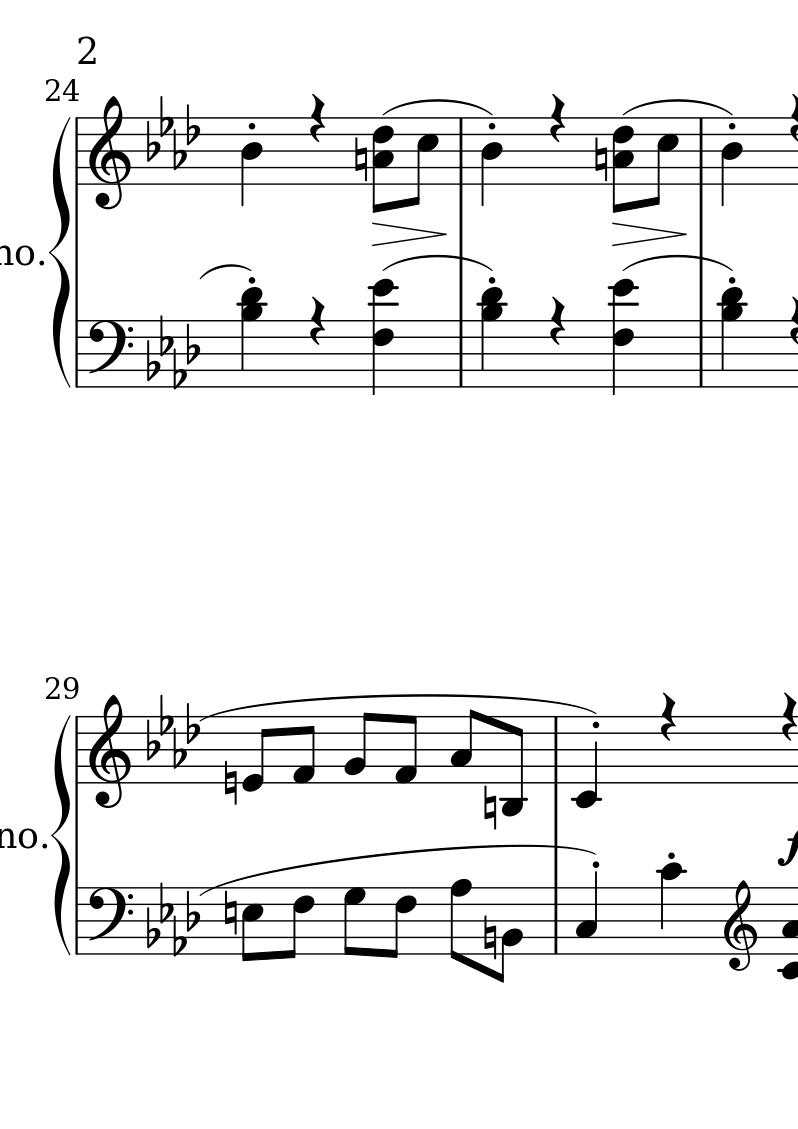2: (76, 35, 97, 65), (43, 77, 61, 104), (44, 675, 61, 701)
4: (61, 77, 79, 104)
4_-2: (571, 715, 599, 809)
4_10: (658, 861, 685, 957)
4_3: (574, 872, 599, 955)
4_4: (719, 116, 745, 209), (239, 118, 264, 208), (479, 118, 504, 208)
4_6_10: (606, 279, 639, 397)
4_6_12: (367, 278, 399, 396)
4_9_11: (716, 286, 748, 390), (476, 286, 508, 390), (237, 287, 267, 389)
8_-3: (501, 715, 527, 817)
8_0: (241, 715, 272, 793)
8_1: (290, 715, 317, 786), (392, 713, 418, 786)
8_2: (497, 886, 524, 985), (342, 711, 374, 784)
8_3: (448, 708, 479, 785)
8_3_6: (371, 117, 396, 215), (612, 115, 634, 214)
8_5: (407, 116, 439, 208), (647, 116, 679, 208), (239, 886, 264, 964)
8_6: (282, 886, 315, 960), (386, 886, 417, 960)
8_7: (342, 885, 366, 957)
8_8: (447, 877, 472, 966)
9: (61, 674, 79, 700)
A_F: (144, 880, 201, 959), (145, 316, 200, 392), (144, 96, 198, 173), (146, 695, 198, 769)
Brace: (49, 710, 74, 951), (51, 112, 72, 389)
Diminuendo_hairpin: (612, 221, 685, 245), (372, 221, 444, 245)
Fclef: (85, 318, 133, 390), (85, 885, 133, 955)
Gclef: (87, 93, 131, 211), (87, 693, 131, 810), (722, 878, 759, 972)
Natural: (592, 136, 610, 185), (352, 136, 369, 185), (221, 889, 238, 937), (481, 784, 498, 831), (481, 914, 497, 960), (223, 760, 238, 806)
Rests4: (547, 295, 567, 346), (548, 93, 567, 144), (308, 295, 327, 346), (308, 93, 326, 143), (660, 691, 677, 742), (781, 690, 798, 741)
Single_barline: (452, 118, 470, 185), (693, 118, 710, 185), (548, 887, 564, 954), (548, 716, 564, 782), (454, 319, 469, 387), (694, 319, 709, 386), (71, 117, 85, 185), (71, 715, 84, 783), (72, 319, 84, 386), (72, 887, 84, 954)
Slur: (198, 842, 598, 896), (198, 695, 600, 722), (382, 254, 494, 274), (385, 97, 491, 115), (624, 97, 733, 114), (616, 256, 736, 271), (202, 262, 247, 280)
